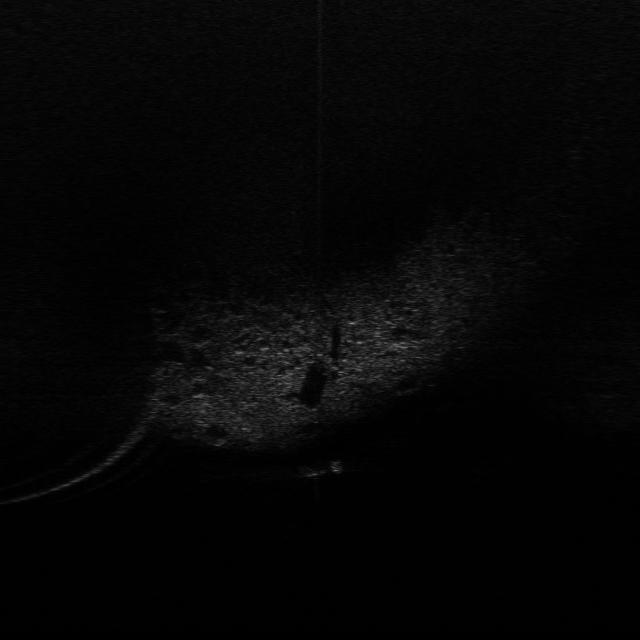cube: (293, 462, 327, 479)
cylinder: (326, 456, 346, 475)
